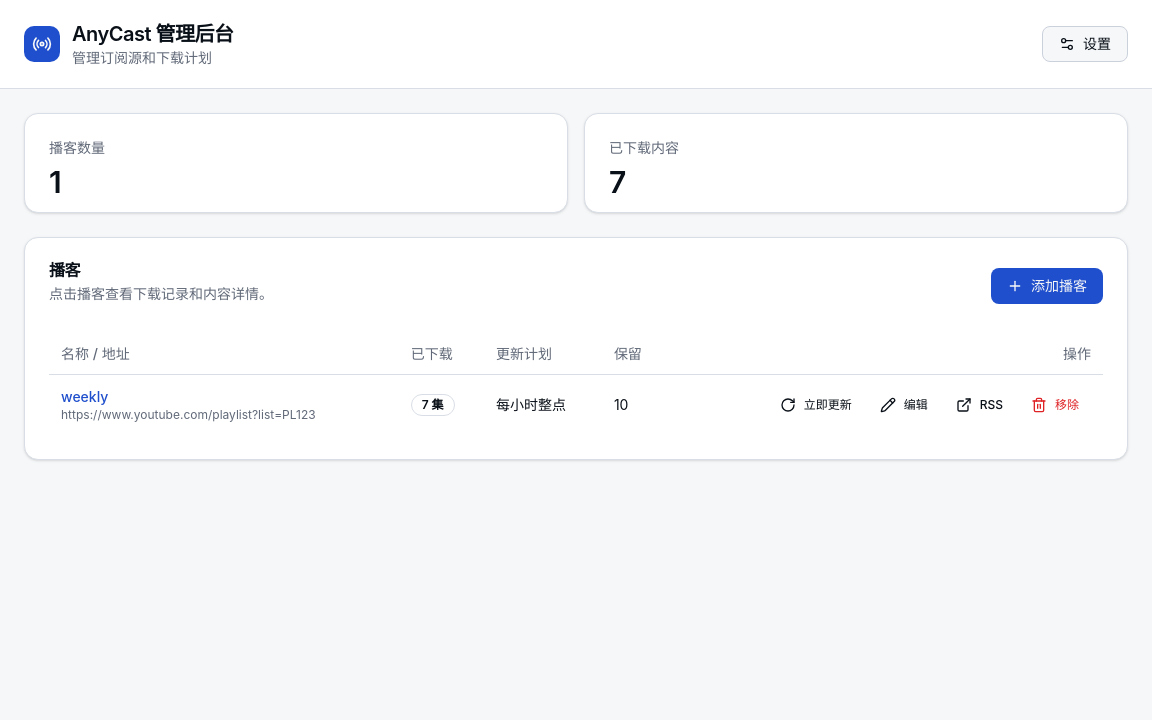
AnyCast admin › starts an update for just the selected podcast without opening its details
Click the button with aria-label "立即更新 weekly". click: {"x": 816, "y": 404}
box: [768, 388, 864, 420]
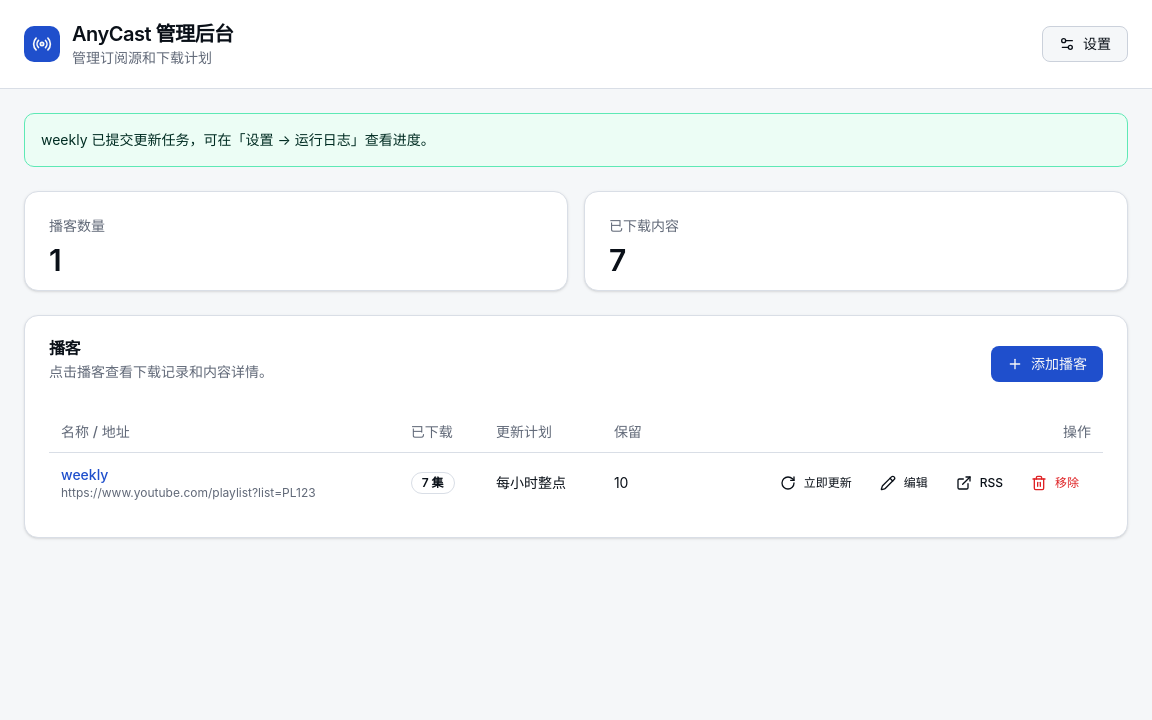
Expected: the text "weekly 已提交更新任务，可在「设置 → 运行日志」查看进度。" is shown, [41, 131, 435, 148]
